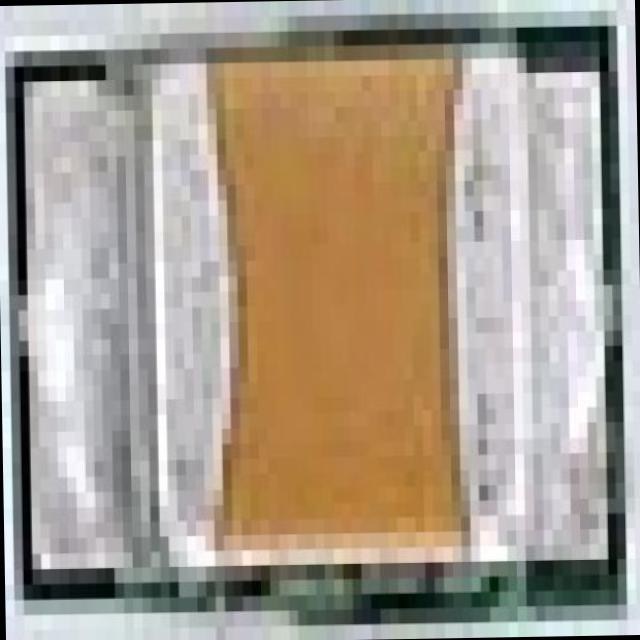capacitor: (8, 42, 610, 622)
